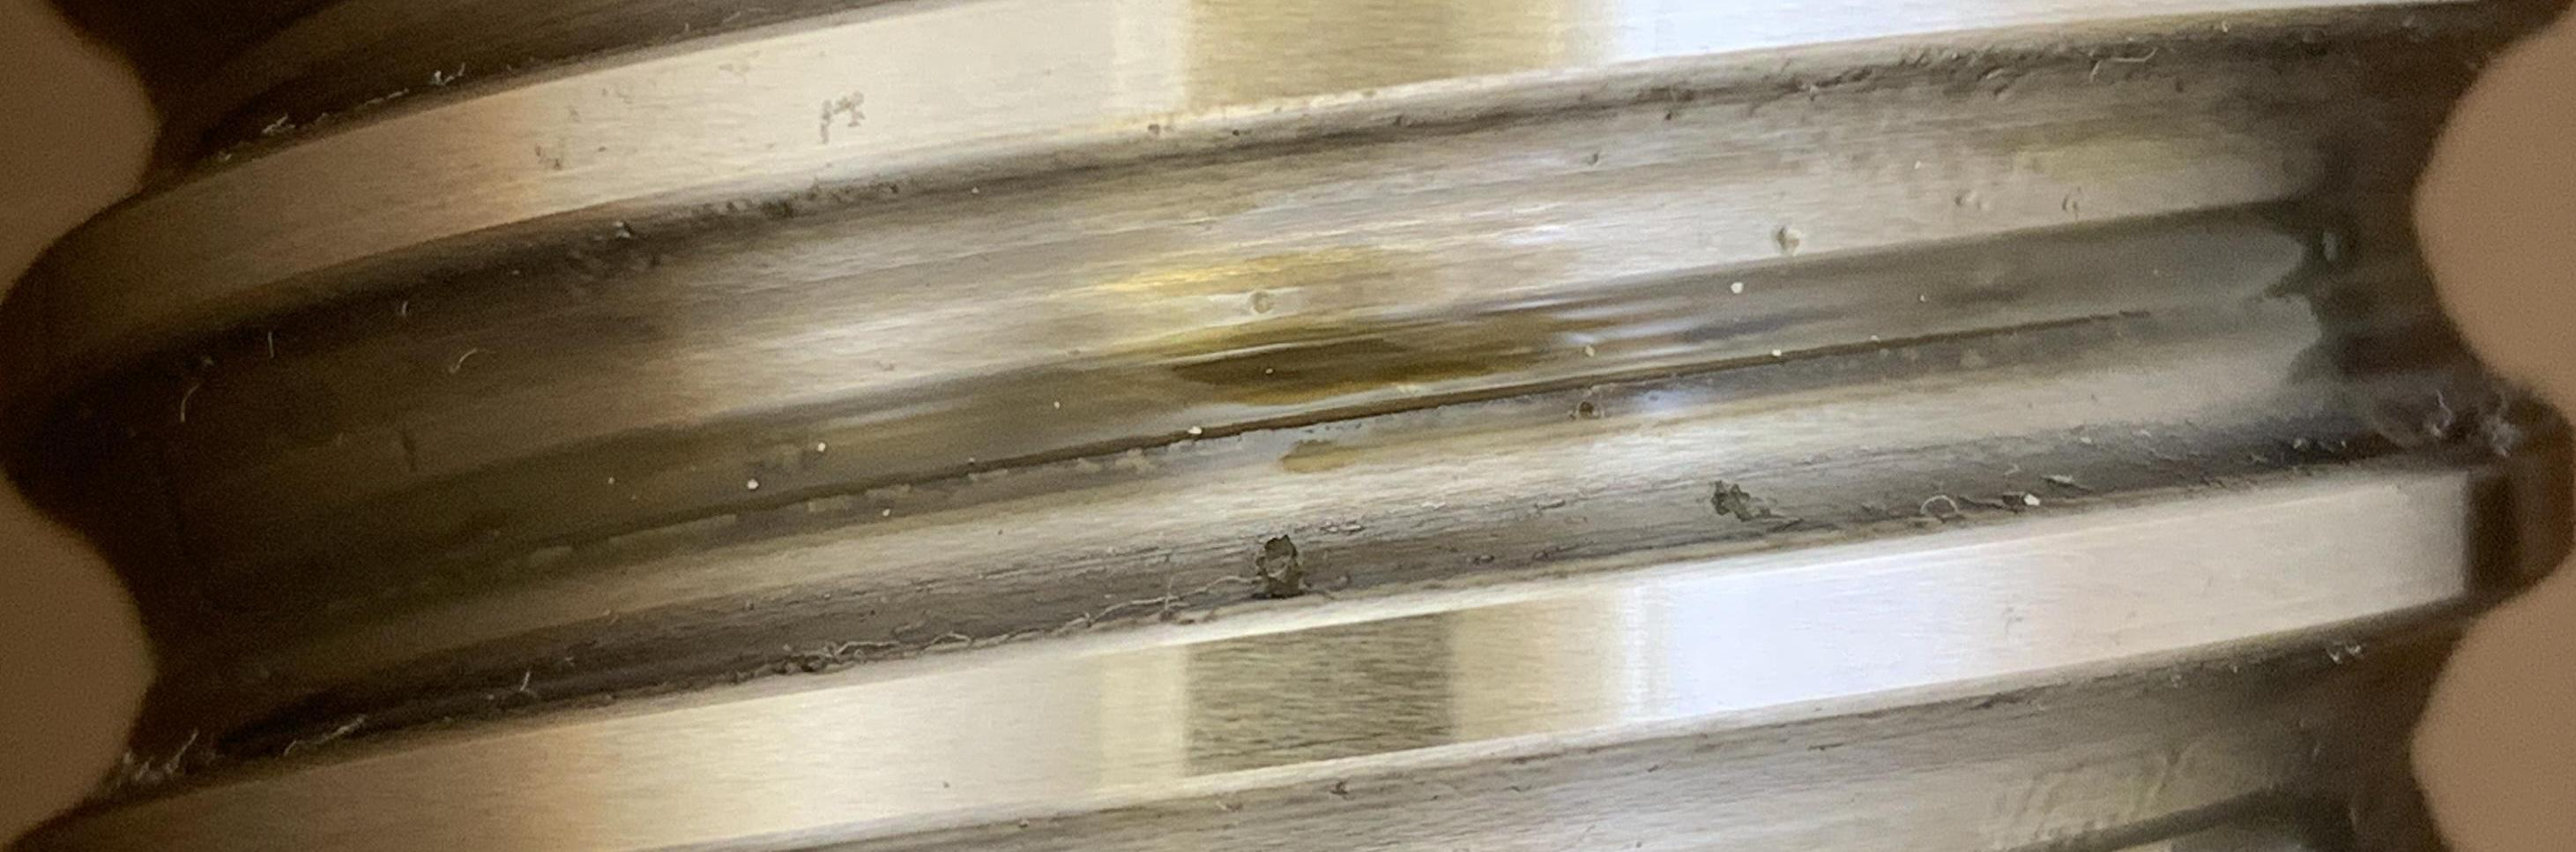pitting: (1250, 531, 1306, 600), (1710, 480, 1786, 521)
